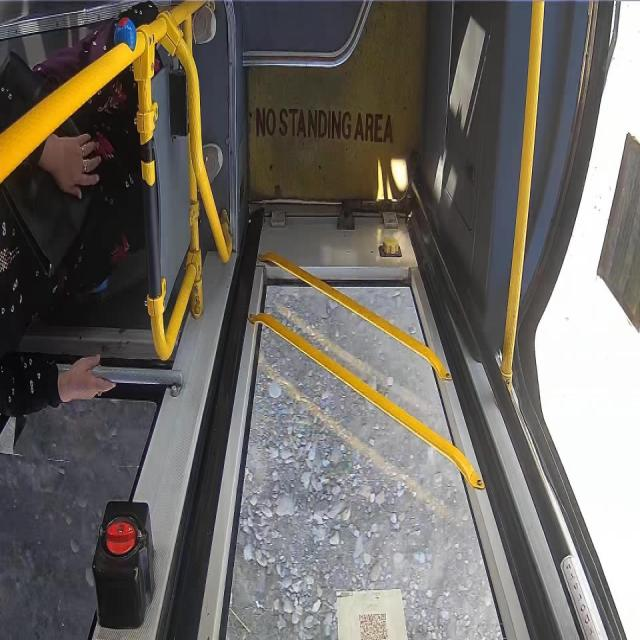close: (193, 205, 532, 640)
